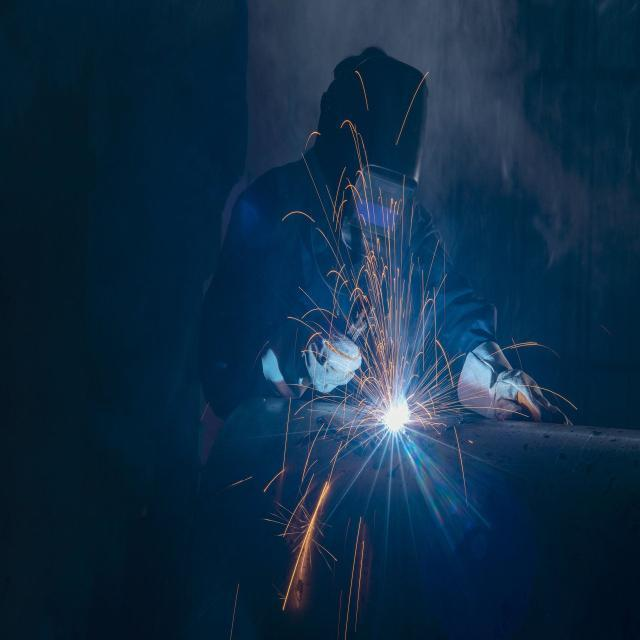with_helmet: (216, 54, 452, 292)
